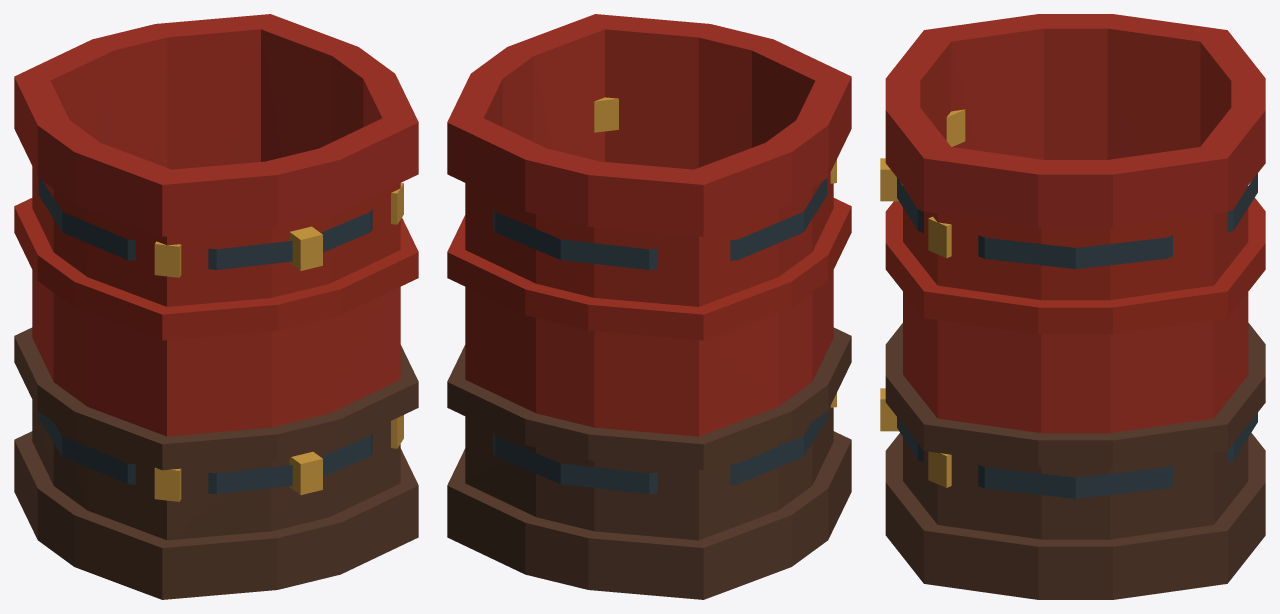
The model's file is open-barrel-coral.glb.
3 views of the same model, side by side, from view 1: azimuth 30°, elevation 25°; view 2: azimuth 150°, elevation 25°; view 3: azimuth 270°, elevation 25° (orthographic). The views are drawn at different scales.
Visible parts, largest first — view 1: open-barrel-coral; view 2: open-barrel-coral; view 3: open-barrel-coral.
Boxes of the visible parts, x1,y1,x2,y2 form: open-barrel-coral: [14, 14, 418, 599]; open-barrel-coral: [447, 14, 851, 599]; open-barrel-coral: [880, 14, 1265, 599].
Size of the model in its own units: 0.68 by 0.84 by 0.6899.
